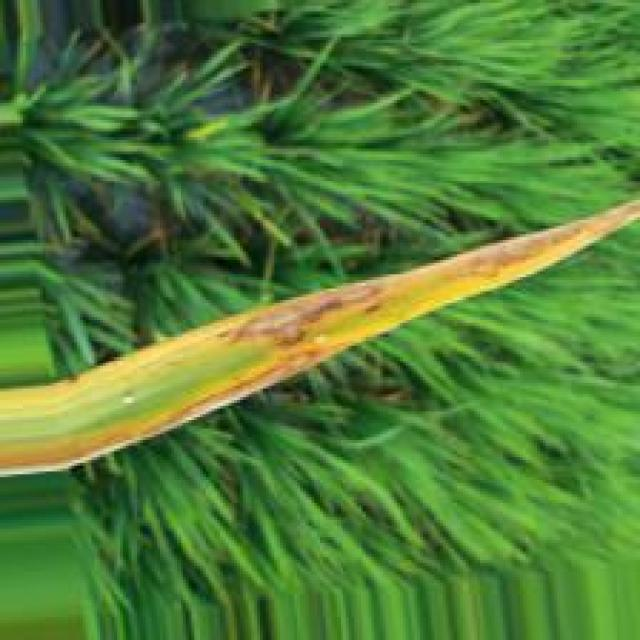Bacterial_Leaf_Blight: (189, 271, 398, 353), (451, 213, 609, 281)
